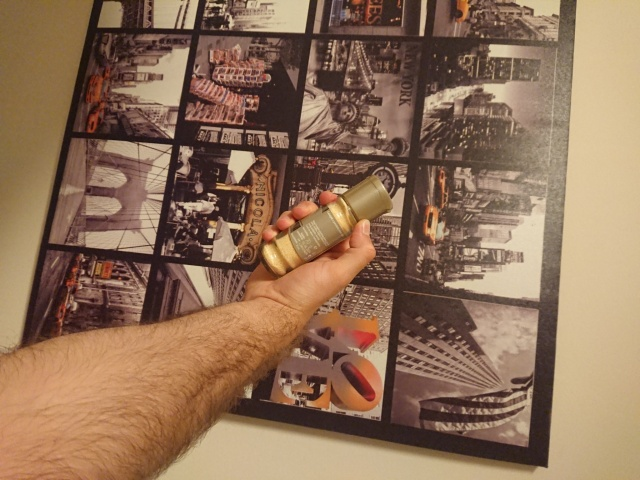Kotanyi Garlic Granules 70g: (255, 173, 395, 279)
